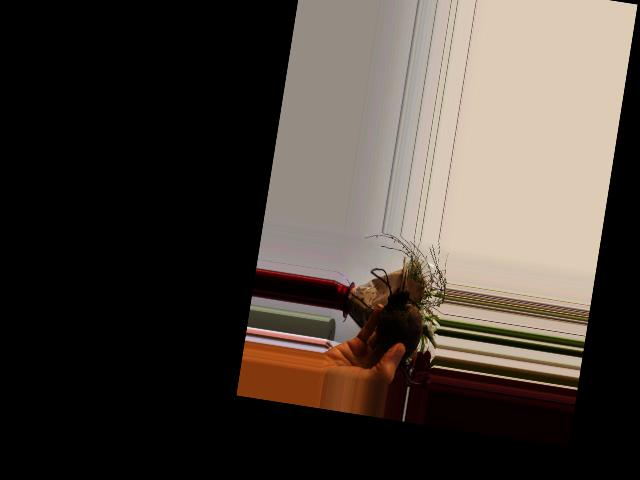beet: (354, 266, 437, 384)
